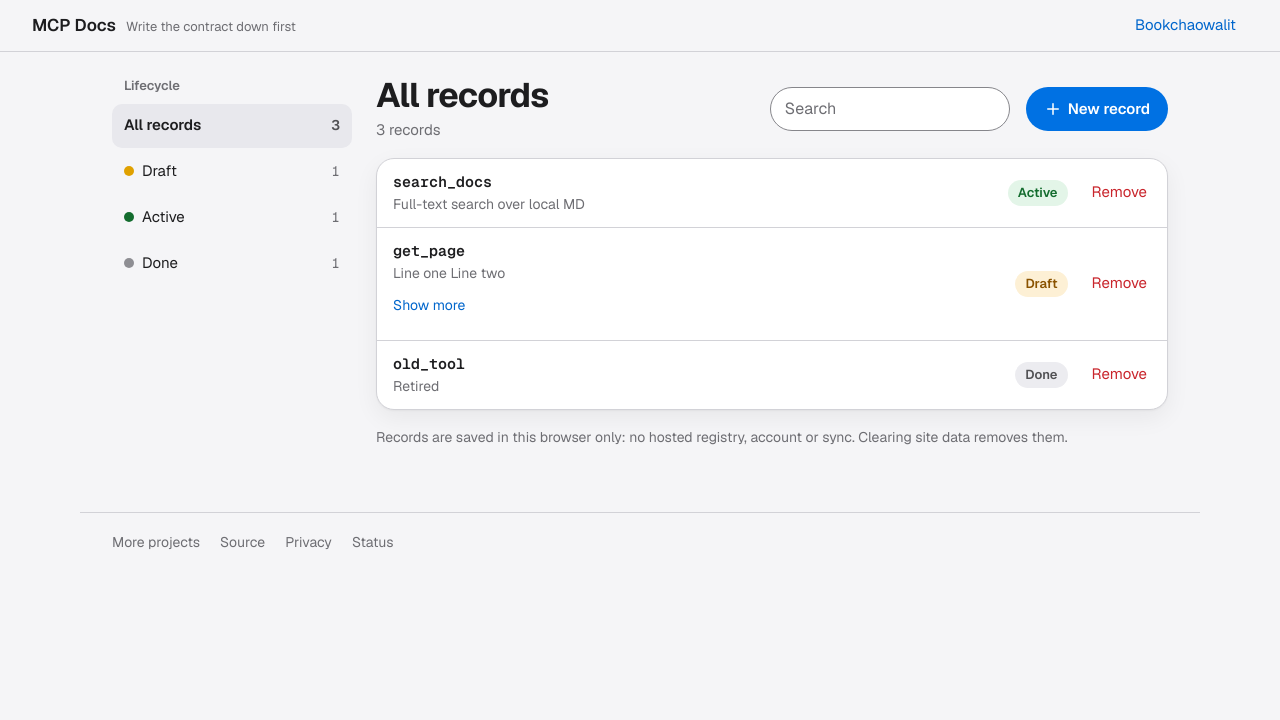
Scenario: remove and undo › batches two removals into one Undo, and the toast closes after 6 s
Later steps or results of the test are not shown.
Click the button with aria-label "Remove search_docs" at point(1119, 193), box 1080,171 -> 1159,215
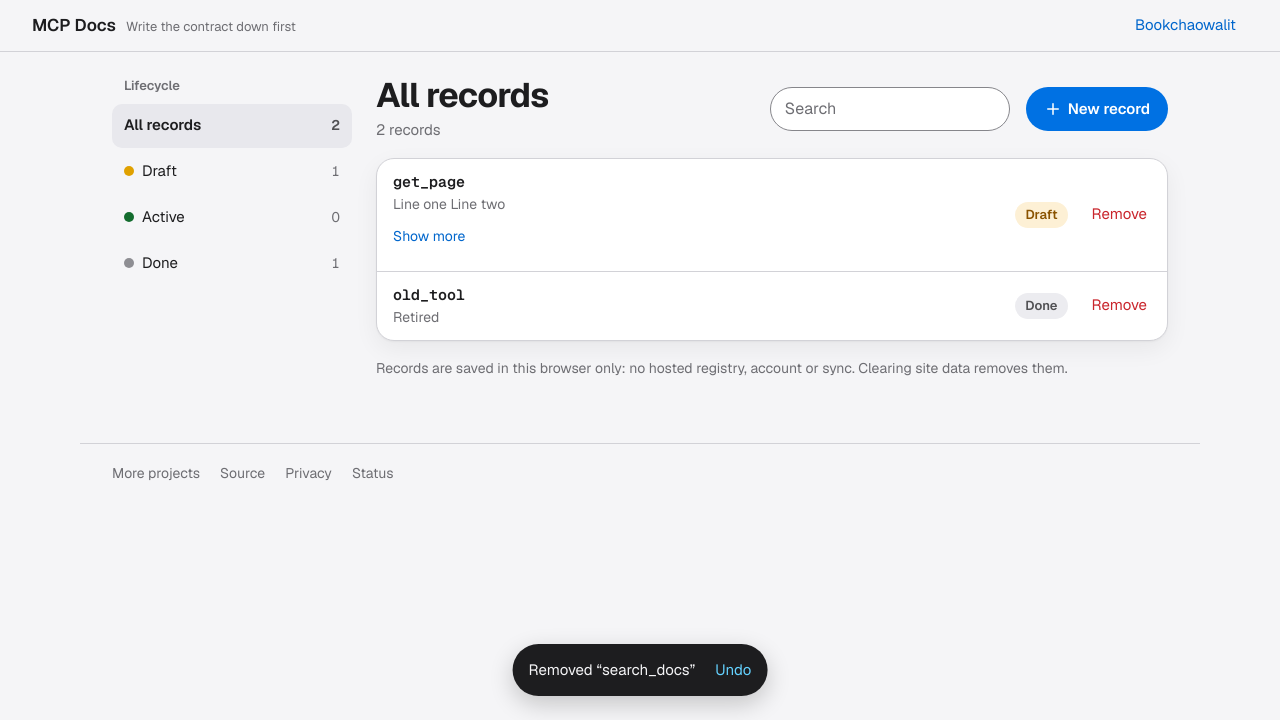
Click the button with aria-label "Remove get_page" at point(1119, 215), box 1080,193 -> 1159,237
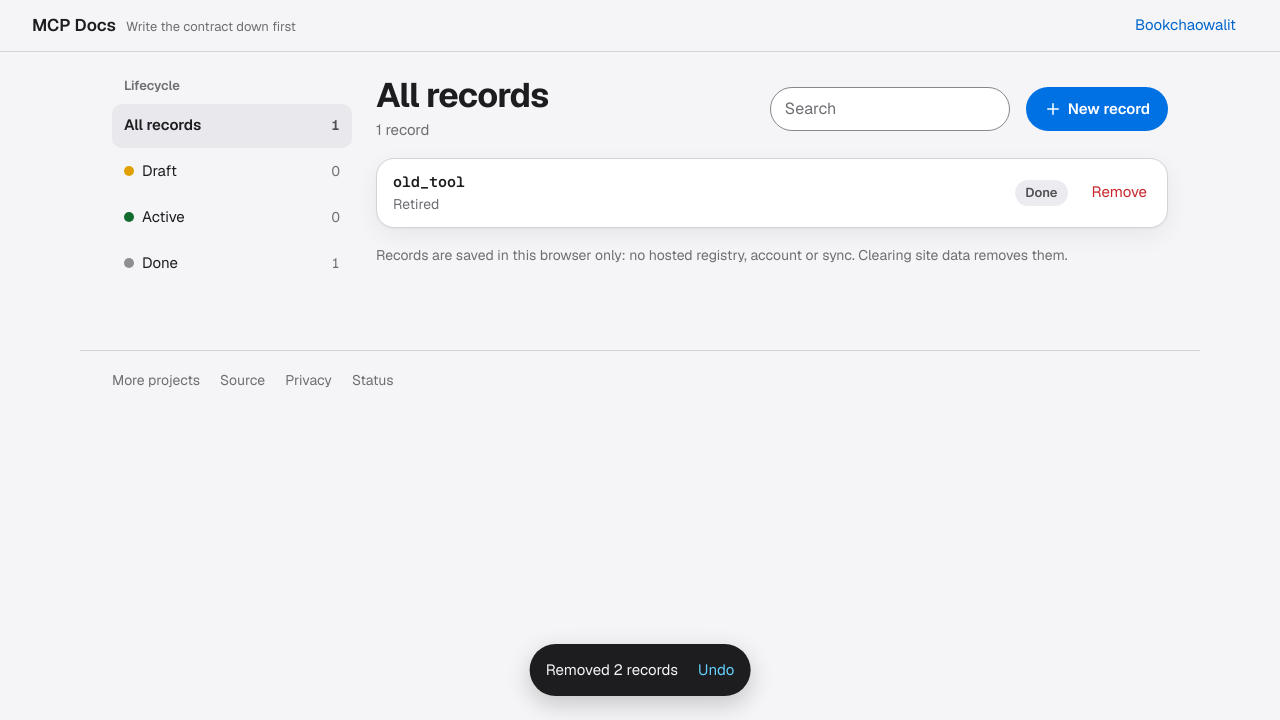
Check: the element with class "as-toast" shows "Removed 2 records", box 546,660 -> 678,679
